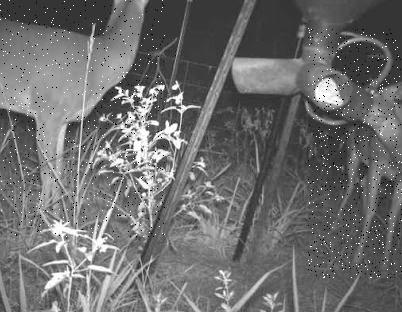Deer: (0, 0, 165, 237), (308, 28, 402, 279)
